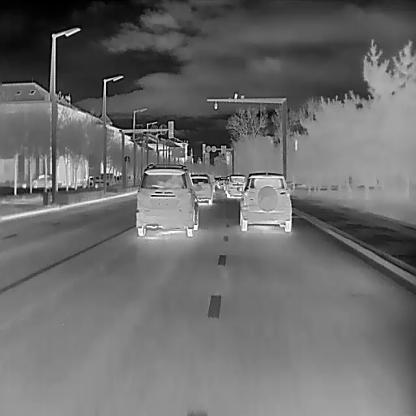car: (135, 163, 201, 236), (236, 171, 291, 232), (189, 172, 213, 204), (226, 173, 247, 197), (32, 172, 52, 187)
